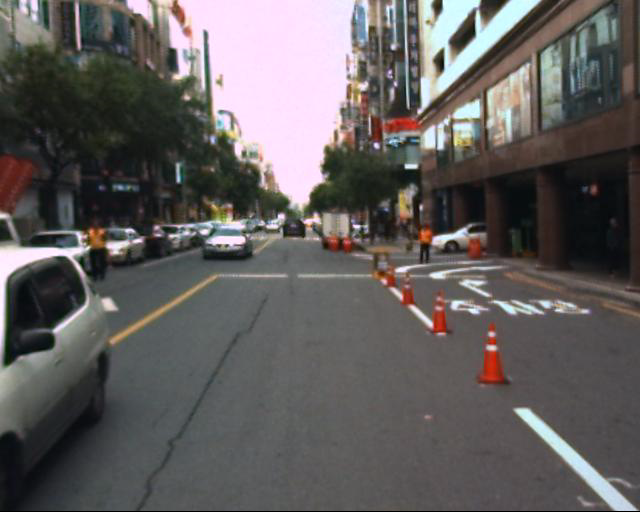person: (82, 213, 115, 293), (596, 214, 628, 281), (415, 221, 445, 271)
